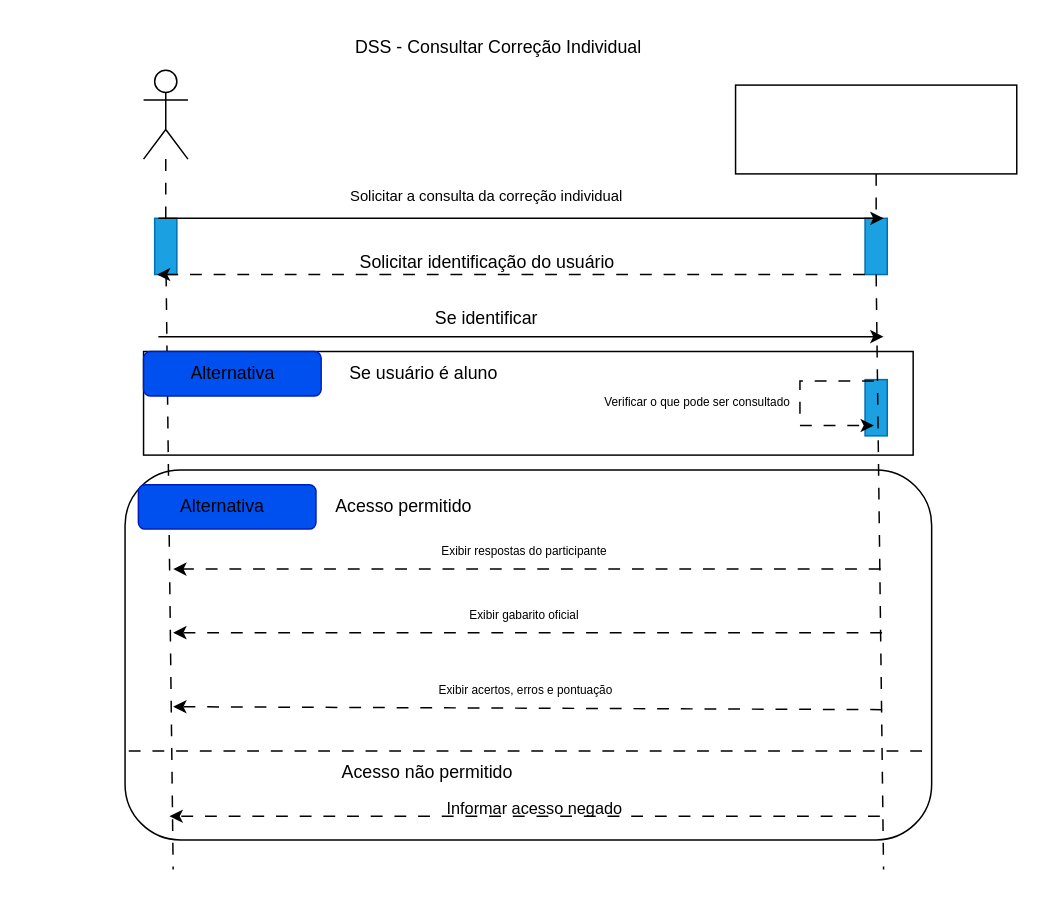
The diagram is 1043 pixels wide and 897 high, and some of its shapes have lost their labels. The shapes that lost their labels are listed below. From the top down, each one's box as (x1, y1, x2, y2) in pixels, then its label:
(142, 69, 188, 159): Usuário (Administrador, Professor ou Aluno)
(734, 84, 1017, 174): Sistema
